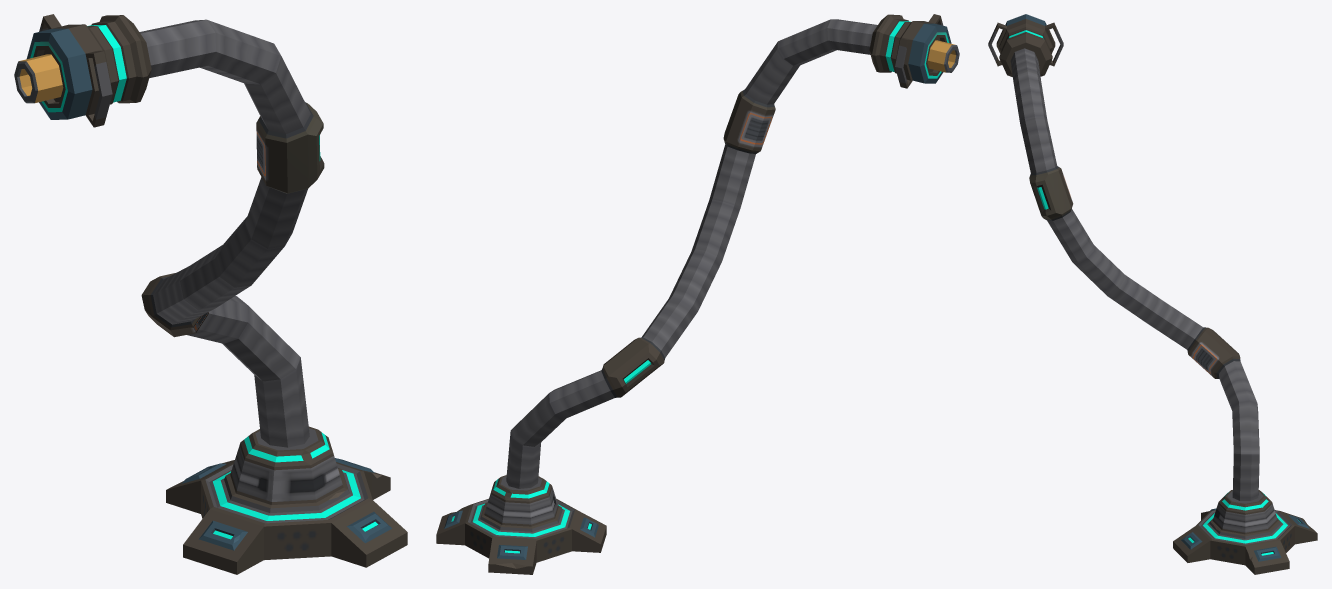
Rendered from SM_Prop_ChargingCables_02.fbx.
3 renders of one model, left to right at view 1: azimuth 30°, elevation 25°; view 2: azimuth 150°, elevation 25°; view 3: azimuth 270°, elevation 25°, orthographic. The views are drawn at different scales.
Parts seen in each view (by area): view 1: SM_Prop_ChargingCables_02; view 2: SM_Prop_ChargingCables_02; view 3: SM_Prop_ChargingCables_02.
Part boxes in pixels (left/top/right/bottom): SM_Prop_ChargingCables_02: left=14, top=14, right=407, bottom=574; SM_Prop_ChargingCables_02: left=436, top=14, right=959, bottom=574; SM_Prop_ChargingCables_02: left=988, top=14, right=1317, bottom=574.
Size of the model in its own units: 300 by 373 by 269.
